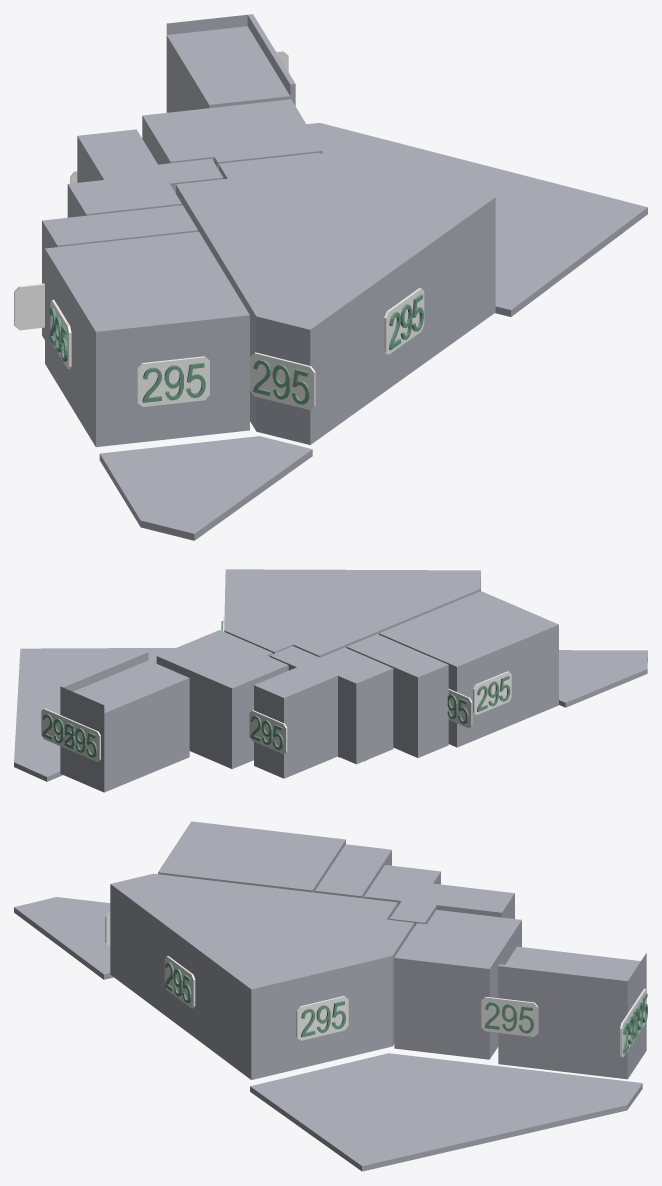
3 renders of one model, top to bottom at view 1: azimuth 30°, elevation 25°; view 2: azimuth 150°, elevation 25°; view 3: azimuth 270°, elevation 25°, orthographic. The views are drawn at different scales.
Visible parts, largest first — view 1: g_0, g_1, g_6, g_7, g_5, g_4, g_3, g_2, g_47, g_35, g_27, g_23; view 2: g_0, g_1, g_3, g_5, g_4, g_6, g_2, g_7, g_39, g_15, g_43, g_31 (+1 smaller); view 3: g_0, g_6, g_5, g_4, g_1, g_3, g_7, g_2, g_19, g_11, g_23.
Part boxes in pixels (x1,y1,x2,y2): g_0: (176, 153, 495, 444); g_1: (45, 231, 249, 447); g_6: (306, 123, 647, 316); g_7: (99, 436, 312, 540); g_5: (166, 14, 295, 112); g_4: (142, 99, 322, 169); g_3: (67, 129, 223, 217); g_2: (42, 205, 197, 339); g_47: (137, 356, 209, 406); g_35: (250, 352, 315, 409); g_27: (14, 283, 44, 330); g_23: (384, 288, 424, 354); g_0: (224, 569, 480, 657); g_1: (379, 591, 558, 747); g_3: (254, 646, 393, 778); g_5: (60, 651, 189, 792); g_4: (156, 630, 288, 768); g_6: (14, 647, 176, 781); g_2: (346, 634, 448, 757); g_7: (559, 650, 647, 707); g_39: (249, 710, 287, 754); g_15: (473, 671, 511, 714); g_43: (41, 708, 74, 751); g_31: (66, 718, 100, 761); g_0: (110, 873, 414, 1079); g_6: (250, 1053, 642, 1171); g_5: (498, 946, 646, 1079); g_4: (394, 910, 521, 1059); g_1: (158, 821, 345, 892); g_3: (364, 865, 514, 926); g_7: (14, 897, 113, 979); g_2: (315, 844, 391, 898); g_19: (481, 996, 538, 1036); g_11: (296, 996, 348, 1040); g_23: (164, 956, 195, 1008).
Size of the model in its own units: 15.89 by 2.85 by 15.81.
